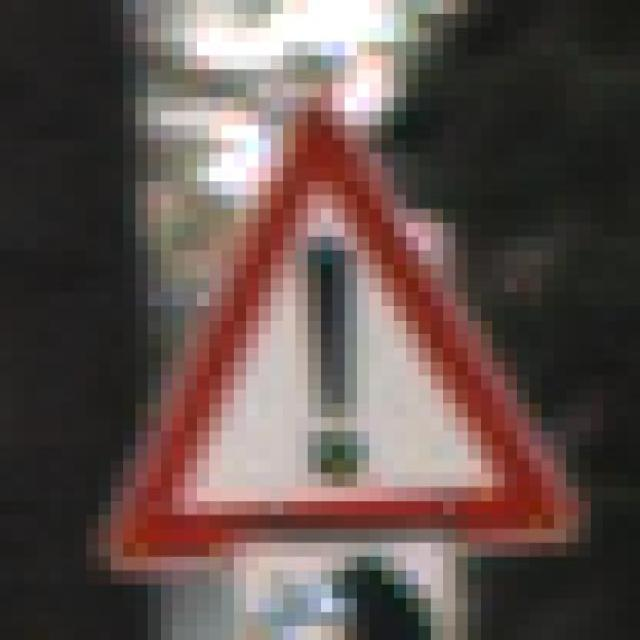Attention Please-: (74, 97, 628, 571)
